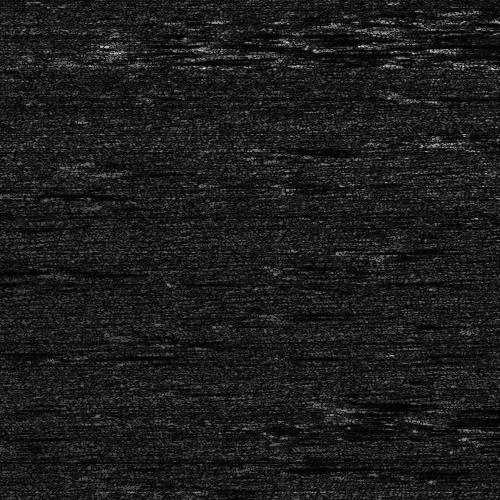rock: (209, 39, 334, 64), (392, 409, 455, 428), (414, 43, 487, 50), (78, 167, 151, 174), (299, 398, 352, 405), (202, 465, 265, 470), (434, 424, 487, 429), (99, 41, 140, 46), (271, 308, 282, 313)
shadow: (272, 39, 392, 64), (0, 262, 143, 275), (424, 409, 500, 428), (234, 465, 405, 470), (326, 398, 415, 405), (115, 167, 195, 174), (277, 308, 363, 313), (451, 43, 500, 50), (120, 41, 176, 46), (461, 424, 500, 429), (0, 348, 39, 353)
